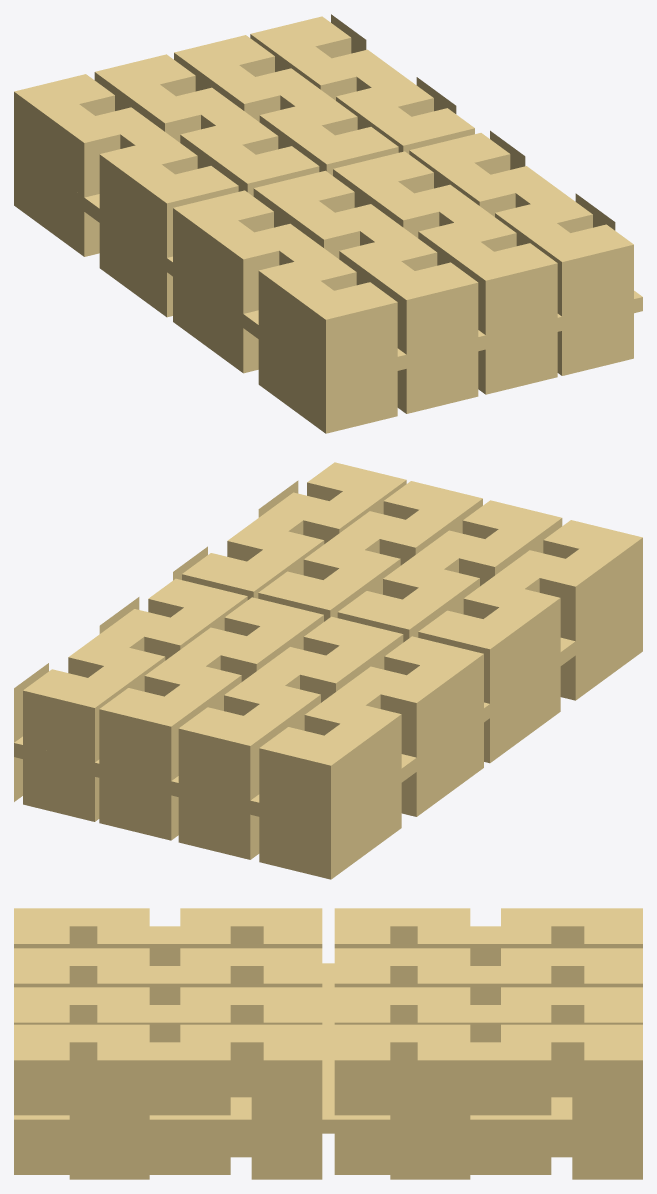
Rendered from ramen1.fbx.
3 views of the same model, one above another, from view 1: azimuth 30°, elevation 25°; view 2: azimuth 150°, elevation 25°; view 3: azimuth 270°, elevation 25° (orthographic).
Visible parts, largest first — view 1: ramen1; view 2: ramen1; view 3: ramen1.
Boxes of the visible parts, bbox=[...] form: ramen1: bbox=[14, 14, 642, 433]; ramen1: bbox=[14, 462, 642, 879]; ramen1: bbox=[14, 908, 642, 1179].
Bounding box in the file's own units: 71.85 × 24.67 × 122.
